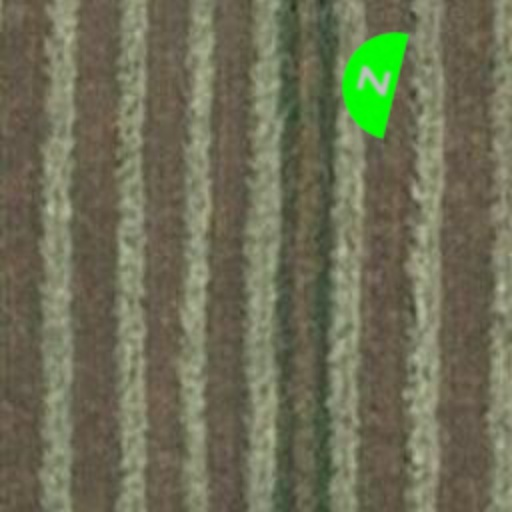semicircle: (304, 14, 436, 146)
